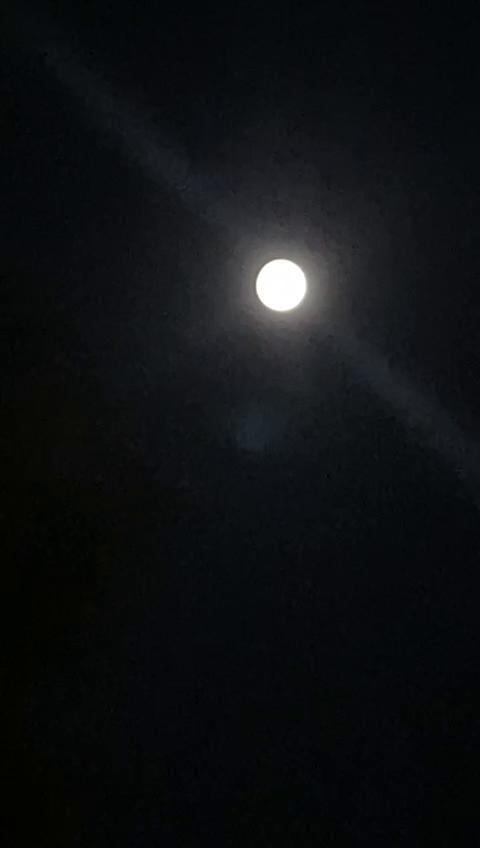moon: (234, 250, 321, 328)
